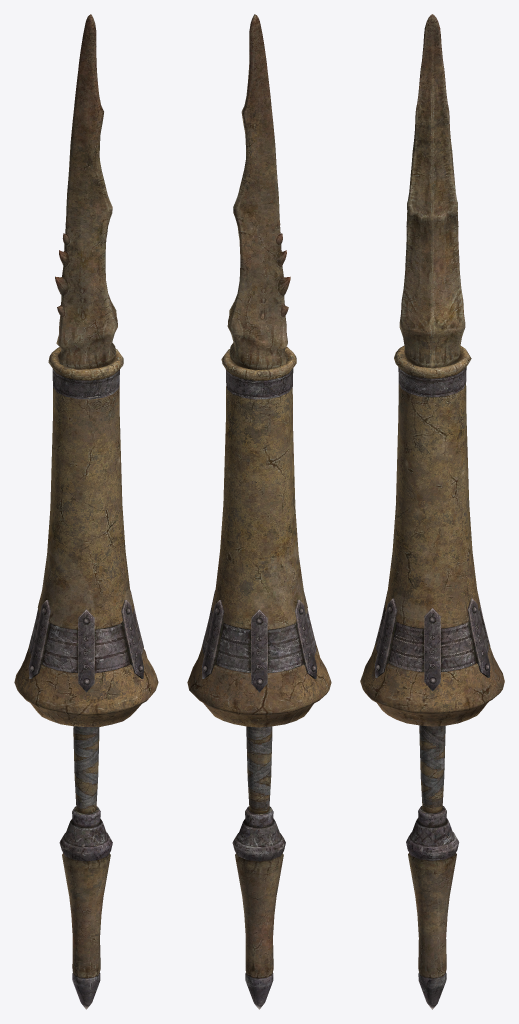
Rendered from bs_lan004.obj.
3 views of the same model, side by side, from view 1: azimuth 30°, elevation 25°; view 2: azimuth 150°, elevation 25°; view 3: azimuth 270°, elevation 25° (orthographic).
Visible parts, largest first — view 1: bs_lan004_002_LOD_1, bs_lan004_001_LOD_1, bs_lan004_000_LOD_1; view 2: bs_lan004_002_LOD_1, bs_lan004_001_LOD_1, bs_lan004_000_LOD_1; view 3: bs_lan004_002_LOD_1, bs_lan004_001_LOD_1, bs_lan004_000_LOD_1.
Boxes of the visible parts, x1,y1,x2,y2 form: bs_lan004_002_LOD_1: (14, 347, 158, 726); bs_lan004_001_LOD_1: (55, 14, 117, 369); bs_lan004_000_LOD_1: (59, 726, 112, 1009); bs_lan004_002_LOD_1: (187, 346, 331, 727); bs_lan004_001_LOD_1: (227, 14, 290, 369); bs_lan004_000_LOD_1: (232, 726, 285, 1009); bs_lan004_002_LOD_1: (360, 346, 504, 726); bs_lan004_001_LOD_1: (399, 14, 465, 368); bs_lan004_000_LOD_1: (406, 725, 459, 1009).
Bounding box in the file's own units: 44.78 × 342 × 44.96.
